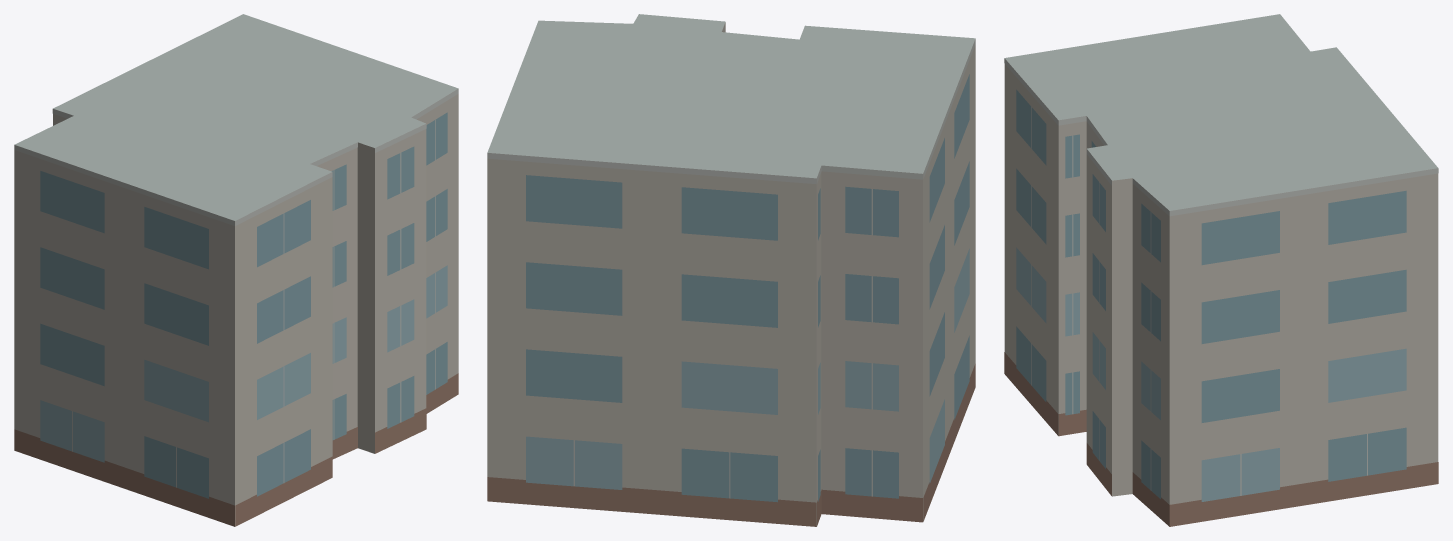
Rendered from survey-upis-32865948.glb.
The picture shows the model from 3 angles, left to right: view 1: azimuth 30°, elevation 25°; view 2: azimuth 150°, elevation 25°; view 3: azimuth 270°, elevation 25°; orthographic projection. The views are drawn at different scales.
Visible parts, largest first — view 1: survey-upis-32865948.tmp; view 2: survey-upis-32865948.tmp; view 3: survey-upis-32865948.tmp.
Part boxes in pixels (x1,y1,x2,y2): survey-upis-32865948.tmp: (14,14,458,526); survey-upis-32865948.tmp: (487,14,975,526); survey-upis-32865948.tmp: (1004,14,1438,526).
Bounding box in the file's own units: 19.41 × 14.5 × 18.07.
